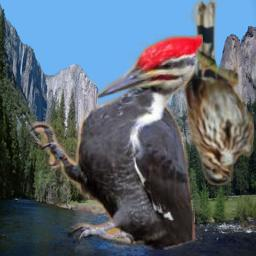Sparrow: (185, 0, 254, 185)
Woodpecker: (27, 34, 203, 250)
